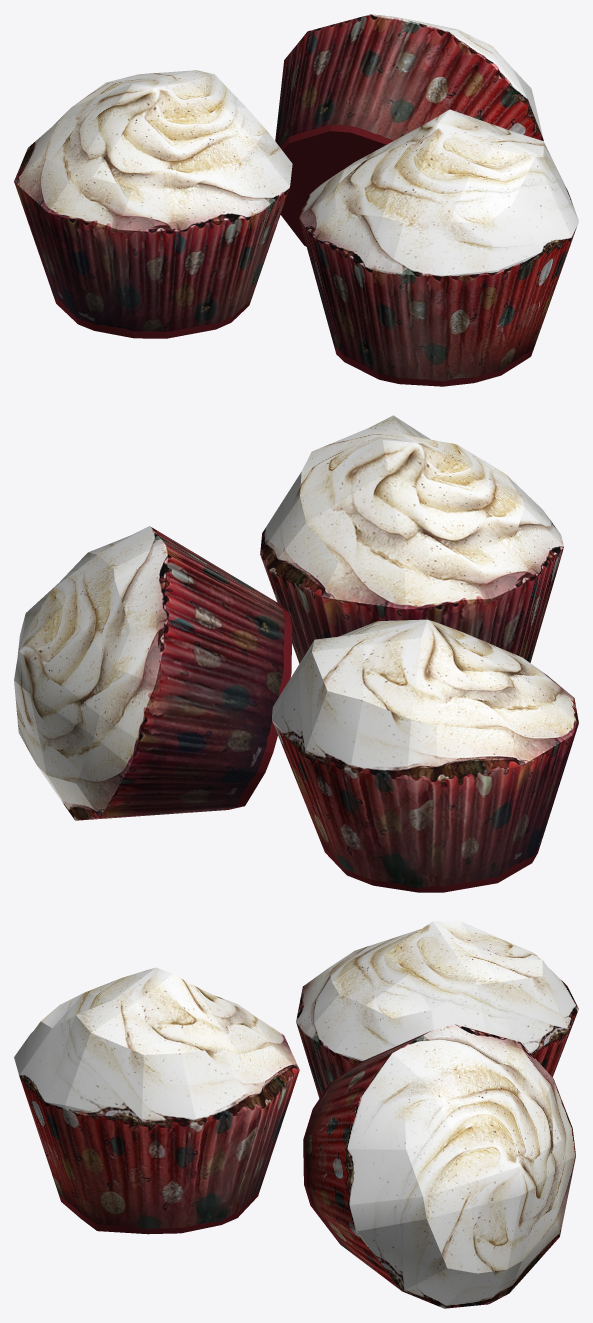
Rendered from cupcake.gltf.
3 renders of one model, top to bottom at view 1: azimuth 30°, elevation 25°; view 2: azimuth 150°, elevation 25°; view 3: azimuth 270°, elevation 25°, orthographic. The views are drawn at different scales.
Visible parts, largest first — view 1: Spice Cupcake, Spice Cupcake2, Spice Cupcake1; view 2: Spice Cupcake2, Spice Cupcake1, Spice Cupcake; view 3: Spice Cupcake1, Spice Cupcake, Spice Cupcake2.
Boxes of the visible parts, <box> form: Spice Cupcake: <box>299,109,578,386</box>; Spice Cupcake2: <box>14,70,292,338</box>; Spice Cupcake1: <box>275,14,543,246</box>; Spice Cupcake2: <box>272,619,578,892</box>; Spice Cupcake1: <box>14,526,292,820</box>; Spice Cupcake: <box>260,415,563,663</box>; Spice Cupcake1: <box>303,1024,575,1308</box>; Spice Cupcake: <box>14,967,299,1234</box>; Spice Cupcake2: <box>296,921,578,1098</box>.
Size of the model in its own units: 5.81 by 2.9 by 5.62.
Materials: 1 (1 with a texture image).
